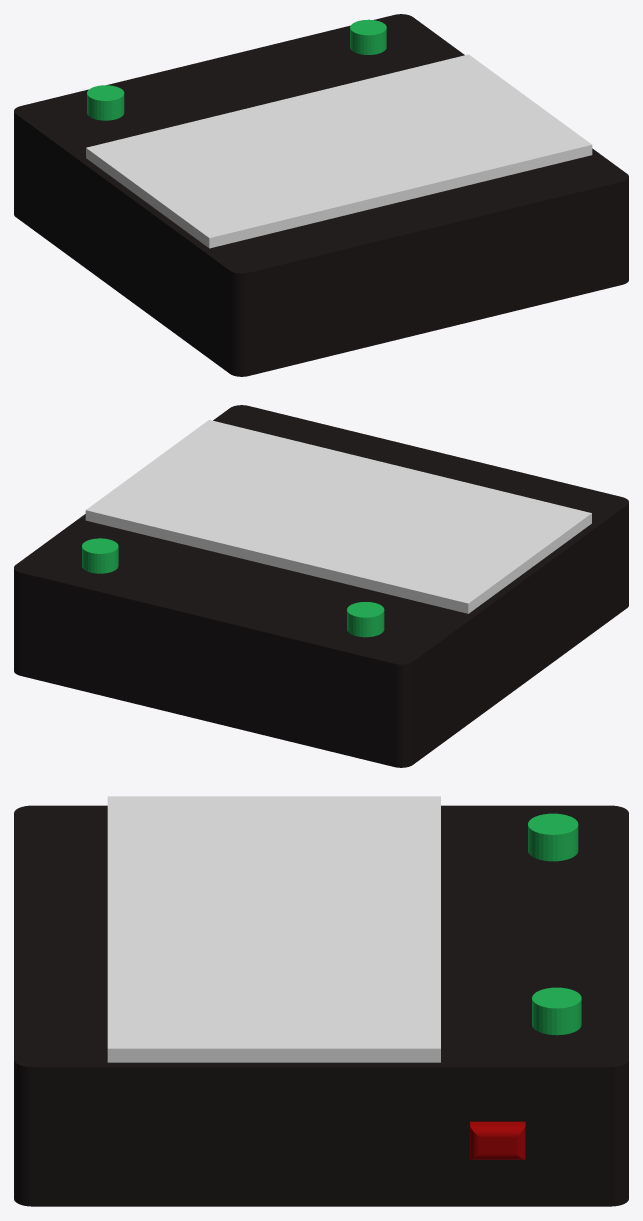
File: certamen  fabricacion digital.glb
The picture shows the model from 3 angles, top to bottom: view 1: azimuth 30°, elevation 25°; view 2: azimuth 150°, elevation 25°; view 3: azimuth 270°, elevation 25°; orthographic projection. The views are drawn at different scales.
Parts seen in each view (by area): view 1: cuerpo, Display, Btn_PlayPause, Boton_Volumen; view 2: cuerpo, Display, Btn_PlayPause, Boton_Volumen; view 3: cuerpo, Display, Btn_PlayPause, Boton_Power, Boton_Volumen.
Part boxes in pixels (x1,y1,x2,y2): cuerpo: (14,14,628,376); Display: (86,54,592,248); Btn_PlayPause: (87,85,124,120); Boton_Volumen: (350,19,386,54); cuerpo: (14,405,628,767); Display: (85,420,591,613); Btn_PlayPause: (347,602,384,637); Boton_Volumen: (82,538,118,573); cuerpo: (14,805,628,1206); Display: (107,796,440,1062); Btn_PlayPause: (528,813,578,861); Boton_Power: (470,1121,525,1159); Boton_Volumen: (532,987,581,1035).
Size of the model in its own units: 8.28 by 2.38 by 8.
